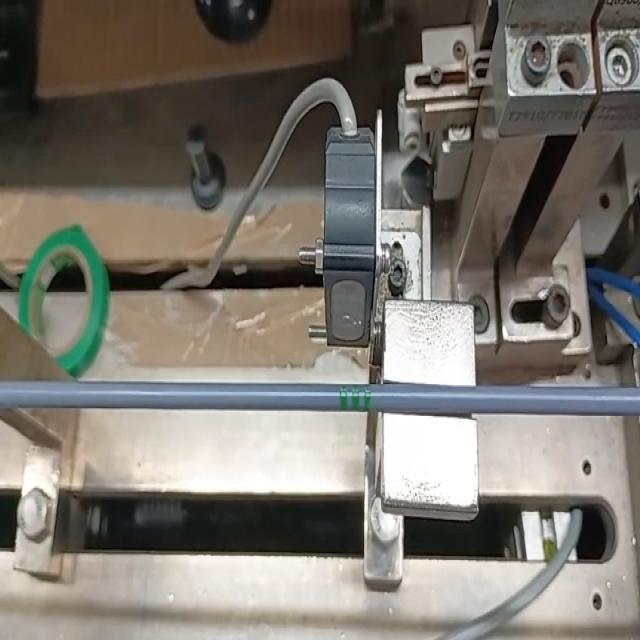green: (340, 384, 371, 413)
